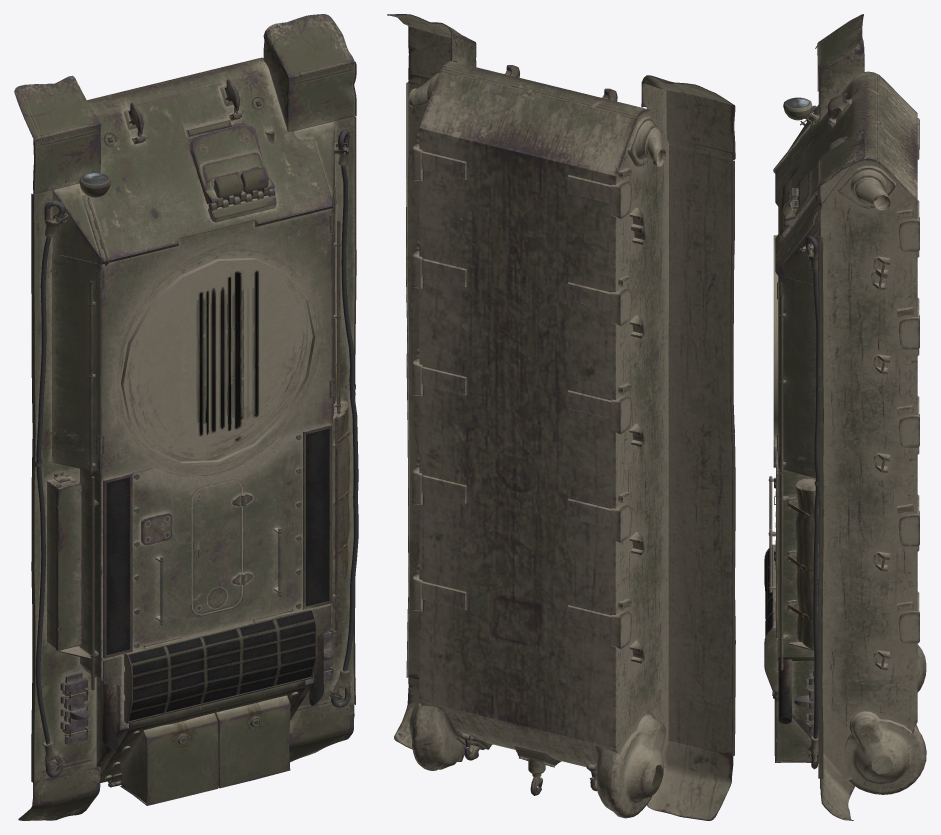
The model's file is Hull.glb.
The picture shows the model from 3 angles, left to right: view 1: azimuth 30°, elevation 25°; view 2: azimuth 150°, elevation 25°; view 3: azimuth 270°, elevation 25°; orthographic projection. The views are drawn at different scales.
Parts seen in each view (by area): view 1: set_0_group_0; view 2: set_0_group_0; view 3: set_0_group_0.
Part boxes in pixels (bbox=[...]): set_0_group_0: bbox=[14, 14, 358, 820]; set_0_group_0: bbox=[387, 14, 735, 820]; set_0_group_0: bbox=[764, 14, 926, 820].
Size of the model in its own units: 2.71 by 5.91 by 1.28.
1 material, 1 textured.
